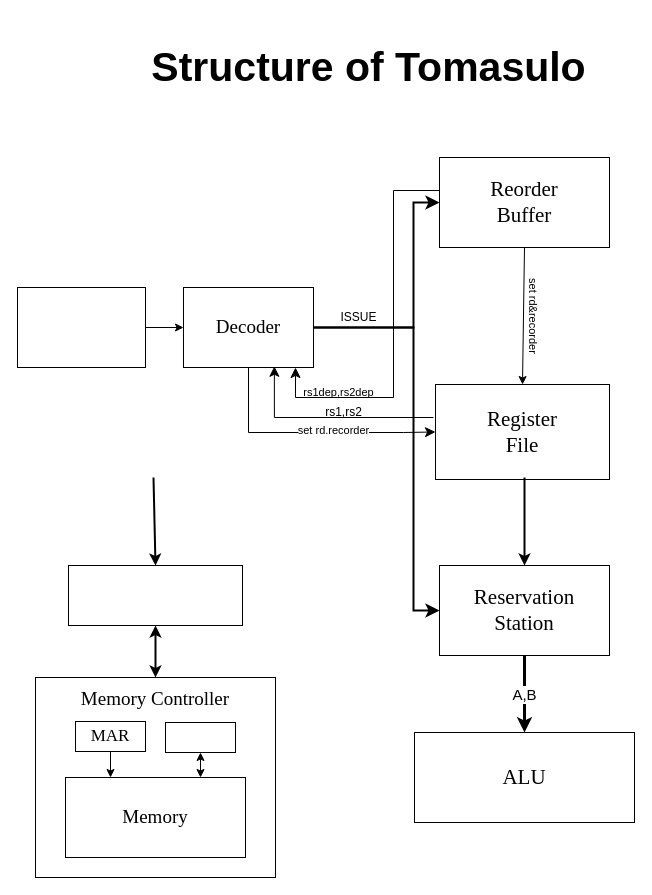
Some shapes in this 652 by 895 pixel diagram are drawn without their labels. The shapes that lost their labels are listed below. From the top down, each one's centre as x and y in pixels, then its label:
At (81,327): "Fetcher".
At (155,595): "Load Store Buffer".
At (200,737): "MDR".
